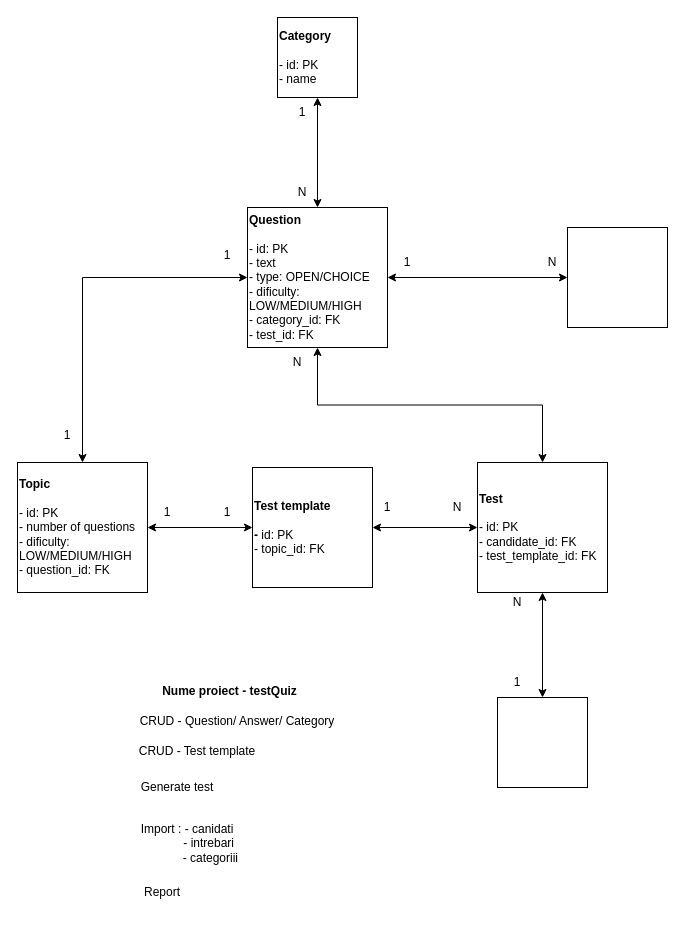
The diagram is 685 pixels wide and 925 high, and some of its shapes have lost their labels. The centre of each missing label's shape, as x and y in pixels:
"Answer - id: PK - text - value - question_id: FK" belongs at point 617,277.
"Candidate - id: PK - name - surname - email" belongs at point 542,742.
